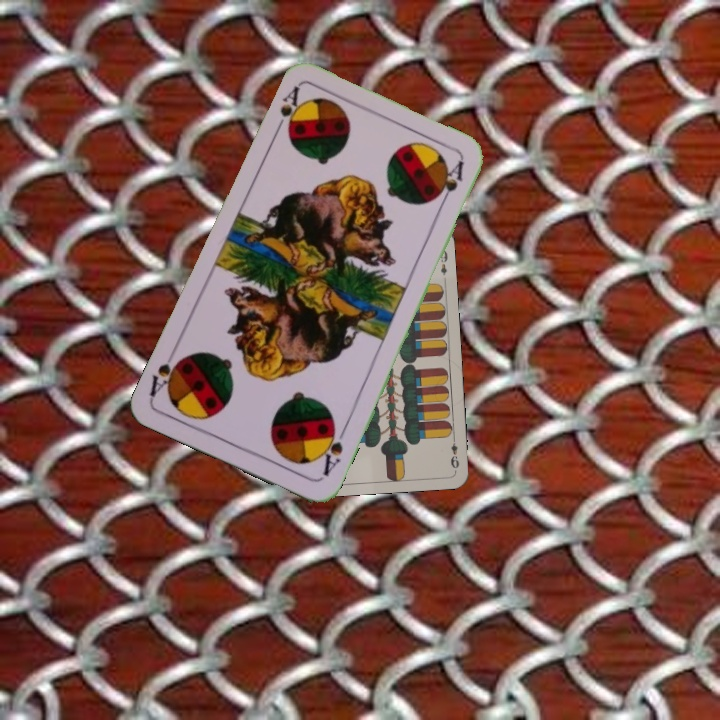E9: (446, 432, 461, 471)
SA: (315, 420, 348, 479), (270, 82, 304, 139)
